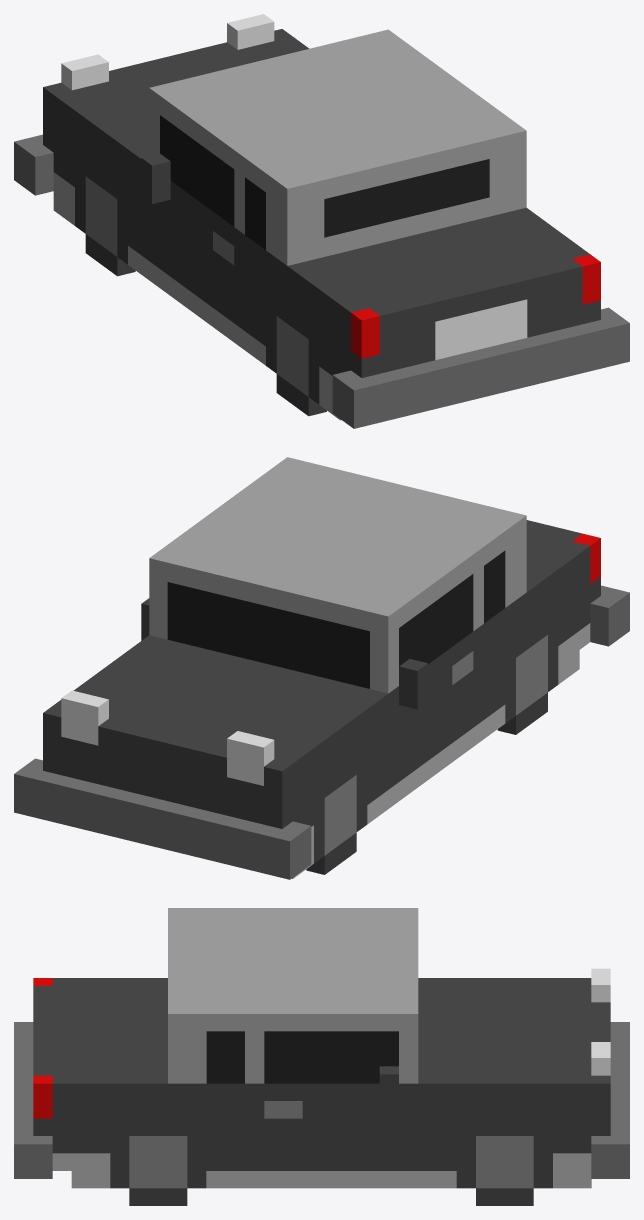
The model's file is veh_car3.obj.
The picture shows the model from 3 angles, top to bottom: view 1: azimuth 30°, elevation 25°; view 2: azimuth 150°, elevation 25°; view 3: azimuth 270°, elevation 25°; orthographic projection. The views are drawn at different scales.
Size of the model in its own units: 1.5 by 1.1 by 3.2.
1 material, 1 textured.
